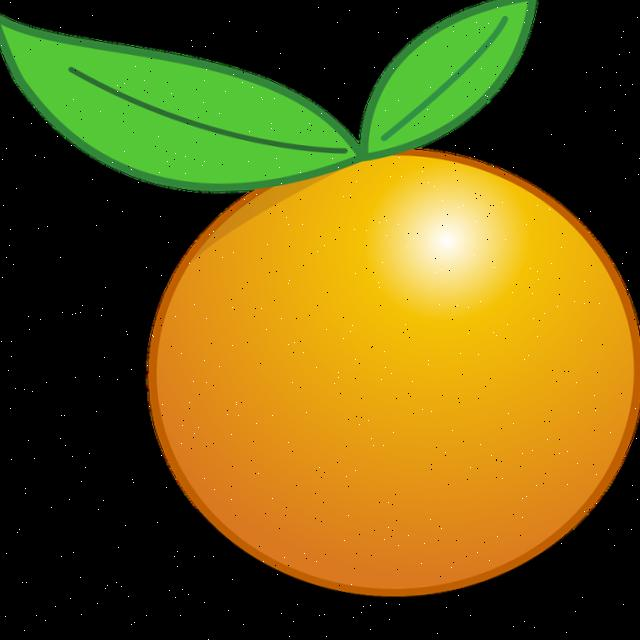Jeruk: (137, 138, 640, 604)
